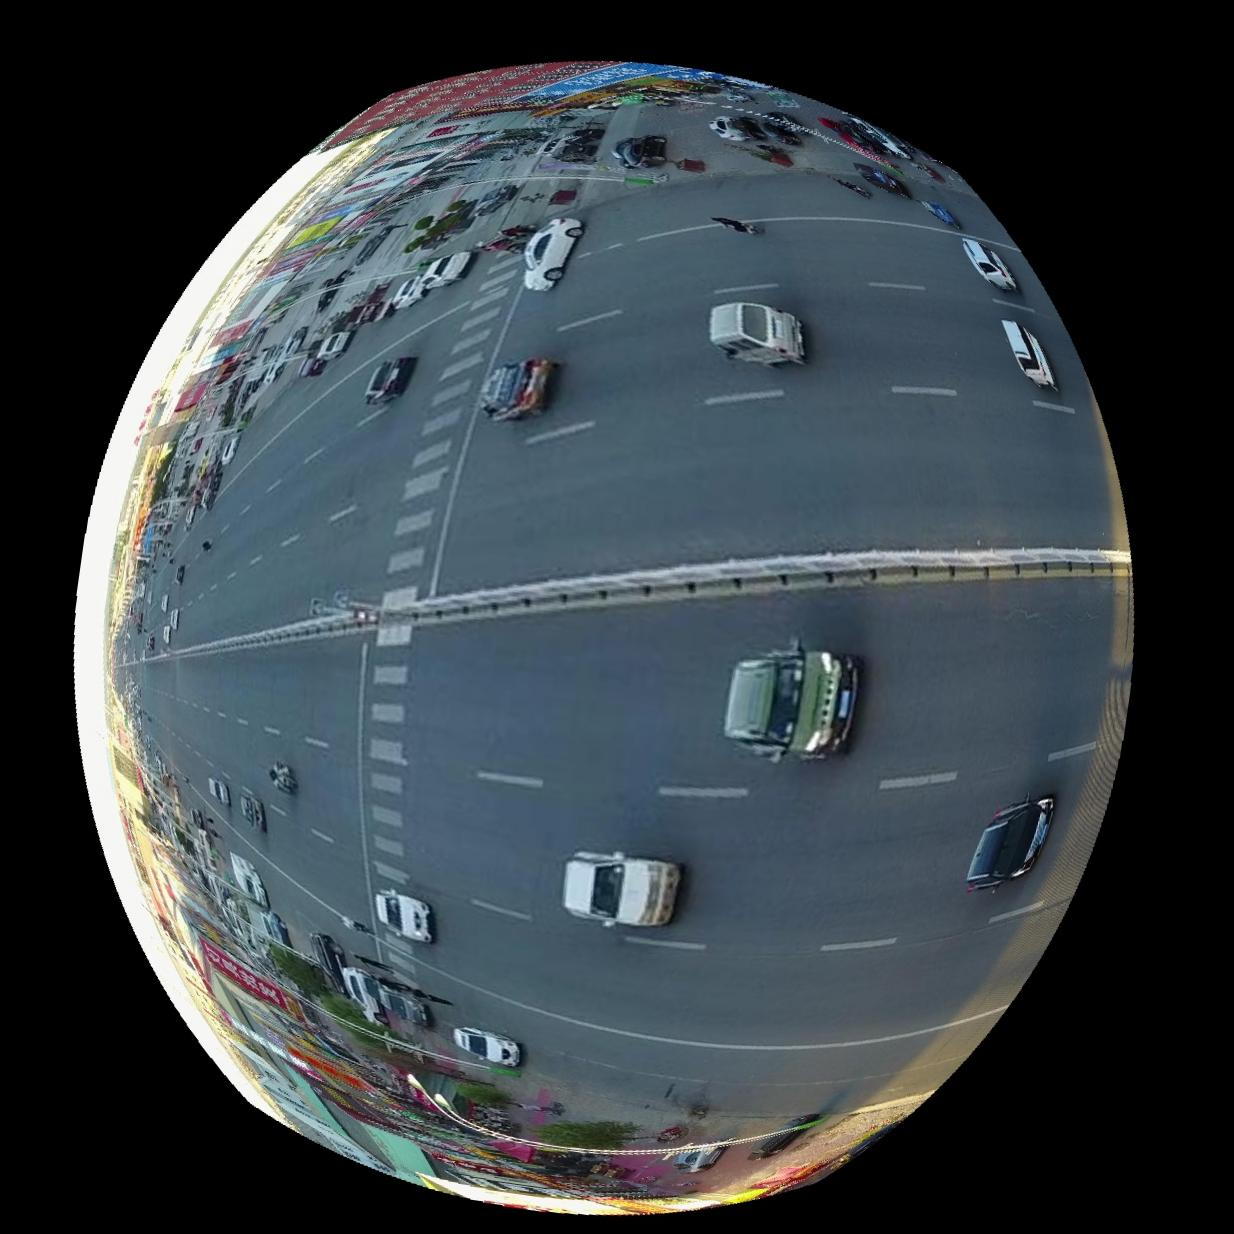building: (319, 58, 722, 147)
cars: (724, 635, 863, 761), (563, 850, 684, 927), (967, 792, 1057, 892), (712, 299, 807, 364), (478, 354, 560, 419), (524, 214, 584, 288), (1005, 318, 1059, 388), (375, 888, 433, 944), (964, 236, 1019, 288), (453, 1026, 521, 1067), (364, 354, 415, 403), (229, 852, 268, 906), (420, 247, 473, 286), (391, 272, 427, 306), (240, 792, 264, 832), (207, 777, 229, 805)
